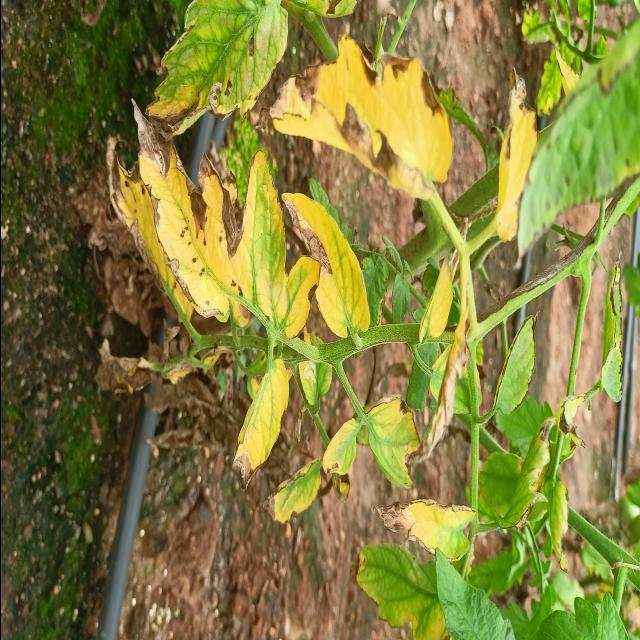Tomato mosaic virus leaf: (122, 89, 244, 331), (141, 0, 294, 145), (280, 184, 372, 344), (370, 485, 480, 569), (228, 356, 290, 494), (596, 244, 626, 409), (260, 454, 322, 528)
